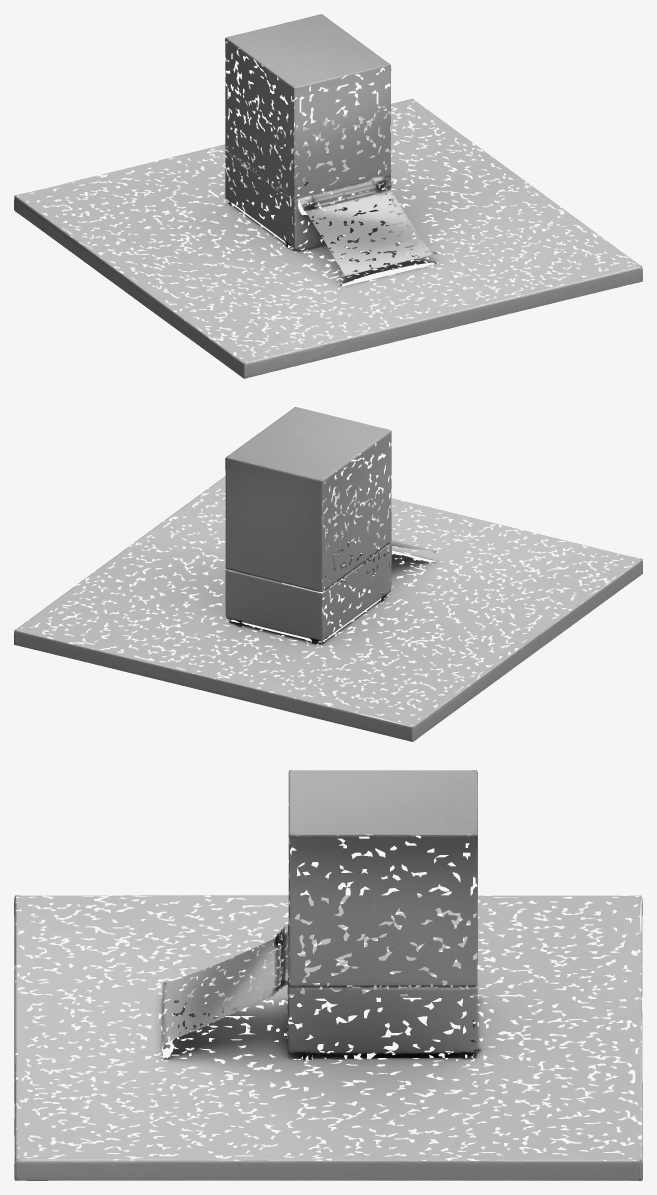
The picture shows the model from 3 angles, top to bottom: view 1: azimuth 30°, elevation 25°; view 2: azimuth 150°, elevation 25°; view 3: azimuth 270°, elevation 25°; orthographic projection. The views are drawn at different scales.
Parts seen in each view (by area): view 1: geometry_0; view 2: geometry_0; view 3: geometry_0.
Part boxes in pixels (x1,y1,x2,y2): geometry_0: (14, 14, 642, 378); geometry_0: (14, 407, 642, 741); geometry_0: (14, 770, 642, 1180).
Size of the model in its own units: 1 by 0.4346 by 1.
Materials: 1 (1 with a texture image).
